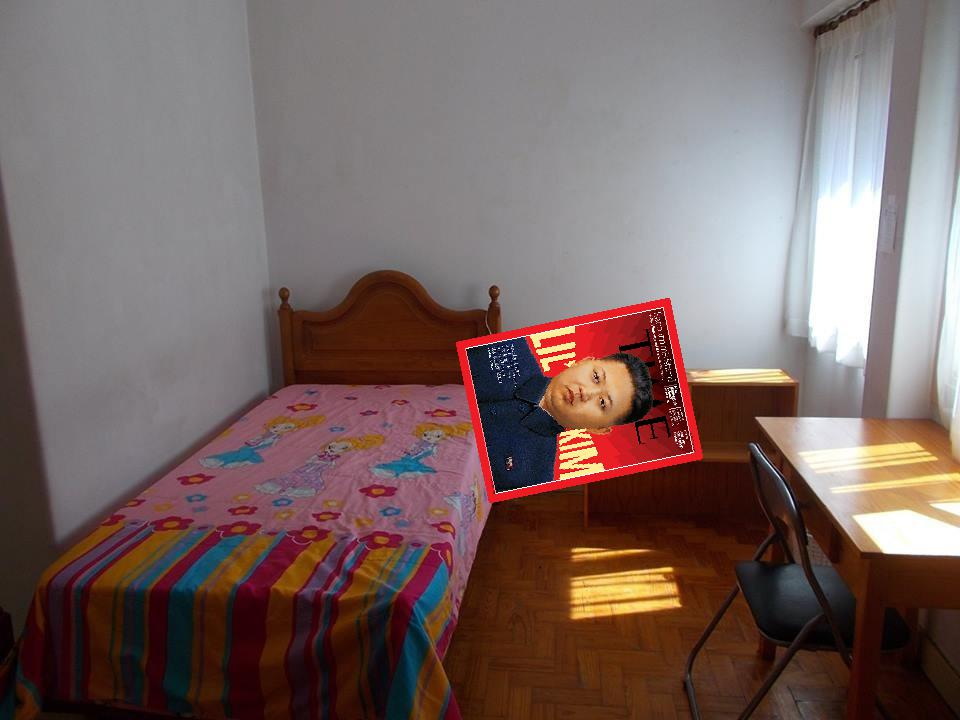times: (455, 291, 707, 510)
